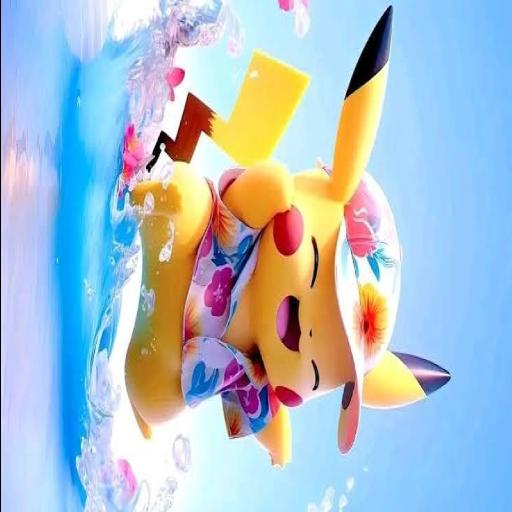Pikachu: (123, 0, 451, 472)
